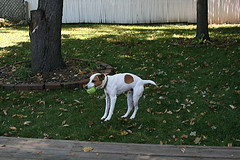tennis ball: (87, 86, 96, 95)
